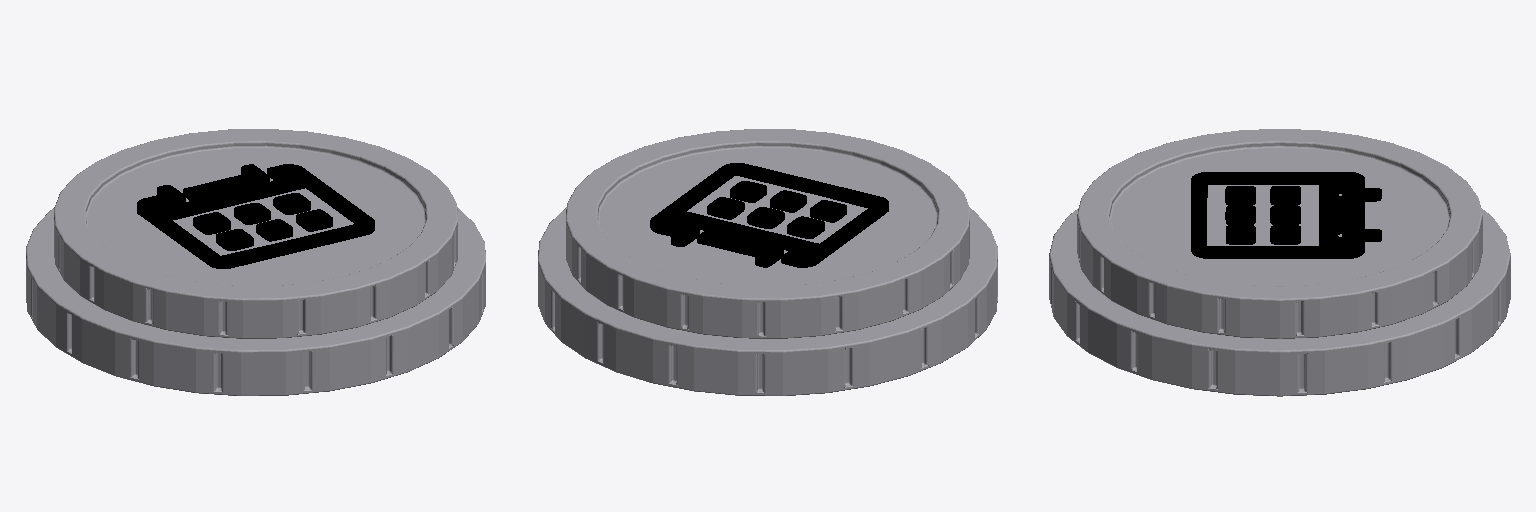
Rendered from podiumC.obj.
The picture shows the model from 3 angles: view 1: azimuth 30°, elevation 25°; view 2: azimuth 150°, elevation 25°; view 3: azimuth 270°, elevation 25°; orthographic projection.
Visible parts, largest first — view 1: Base.003, Curve.001; view 2: Base.003, Curve.001; view 3: Base.003, Curve.001.
Boxes of the visible parts, x1=… form: Base.003: x1=26, y1=129, x2=485, y2=395; Curve.001: x1=137, y1=164, x2=374, y2=268; Base.003: x1=538, y1=129, x2=997, y2=395; Curve.001: x1=650, y1=163, x2=888, y2=267; Base.003: x1=1049, y1=129, x2=1510, y2=396; Curve.001: x1=1191, y1=172, x2=1381, y2=258.
Size of the model in its own units: 6.37 by 1.33 by 6.37.